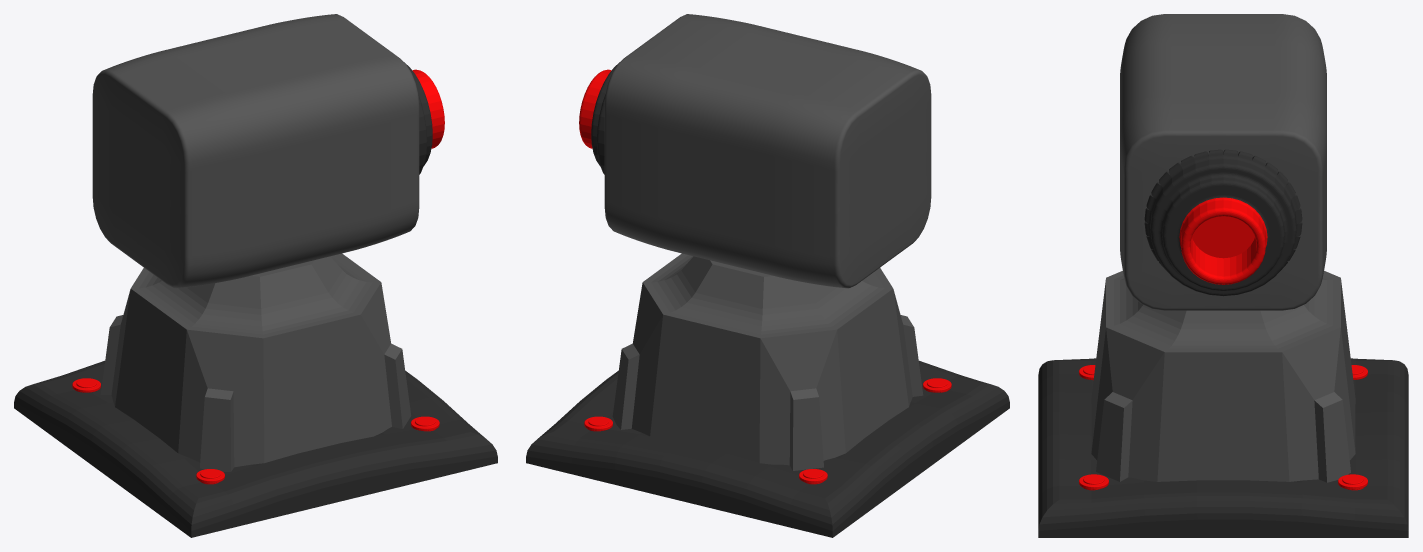
The model's file is Turret2.fbx.
The picture shows the model from 3 angles, left to right: view 1: azimuth 30°, elevation 25°; view 2: azimuth 150°, elevation 25°; view 3: azimuth 270°, elevation 25°; orthographic projection. The views are drawn at different scales.
Visible parts, largest first — view 1: Cube.002, Cube, Plane, Cylinder.005; view 2: Cube.002, Cube, Plane, Cylinder.005; view 3: Cube, Cube.002, Plane, Cylinder.005.
Part boxes in pixels (x1,y1,x2,y2): Cube.002: (92, 14, 419, 288); Cube: (100, 253, 411, 471); Plane: (14, 360, 497, 537); Cylinder.005: (404, 62, 444, 174); Cube.002: (604, 14, 931, 288); Cube: (612, 253, 923, 470); Plane: (526, 360, 1009, 537); Cylinder.005: (579, 62, 619, 174); Cube: (1091, 270, 1355, 482); Cube.002: (1120, 14, 1326, 310); Plane: (1038, 358, 1408, 537); Cylinder.005: (1144, 149, 1302, 296).
Size of the model in its own units: 211 by 233 by 200.
